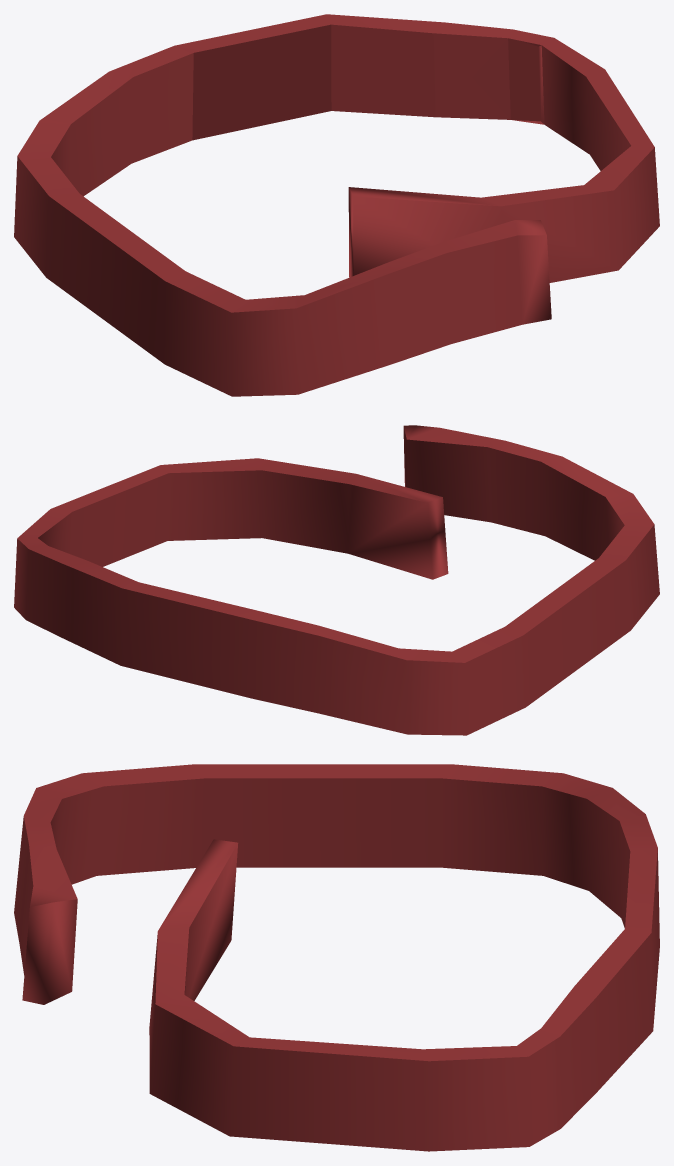
File: LeatherStraps.fbx
3 views of the same model, one above another, from view 1: azimuth 30°, elevation 25°; view 2: azimuth 150°, elevation 25°; view 3: azimuth 270°, elevation 25° (orthographic). The views are drawn at different scales.
Parts seen in each view (by area): view 1: LeatherStrap; view 2: LeatherStrap; view 3: LeatherStrap.
Part boxes in pixels (x1=…): LeatherStrap: x1=14, y1=14, x2=659, y2=396; LeatherStrap: x1=14, y1=425, x2=659, y2=735; LeatherStrap: x1=14, y1=764, x2=659, y2=1151.
Bounding box in the file's own units: 0.1887 × 0.1703 × 0.037.
